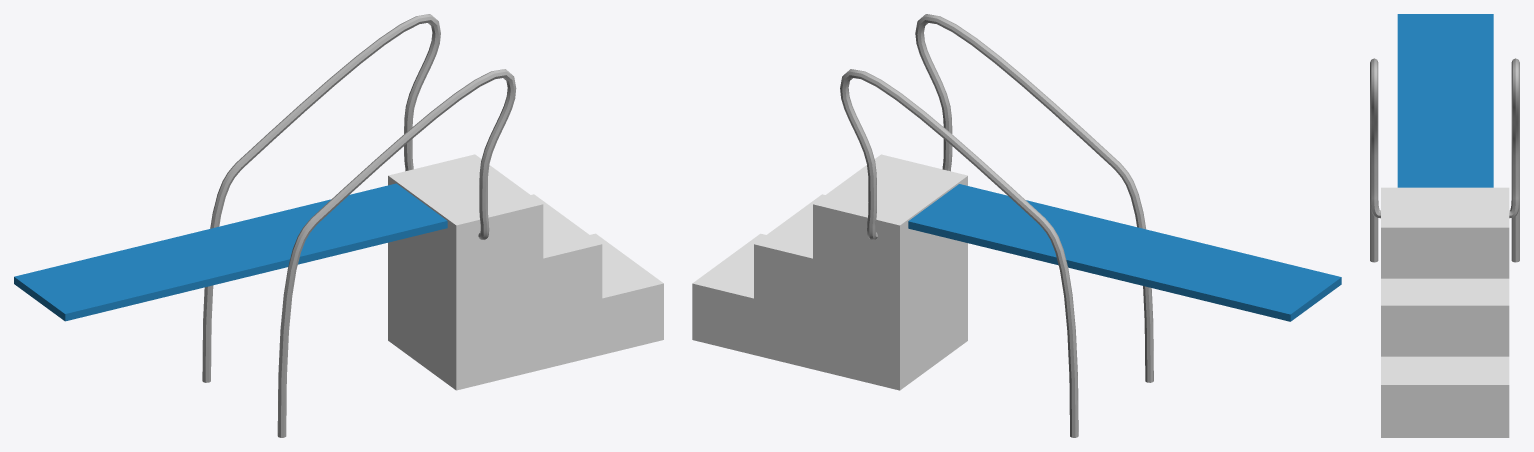
Rendered from Trampolin.FBX.
3 views of the same model, side by side, from view 1: azimuth 30°, elevation 25°; view 2: azimuth 150°, elevation 25°; view 3: azimuth 270°, elevation 25° (orthographic). The views are drawn at different scales.
Visible parts, largest first — view 1: Escaleras, Pieza Trampolín, Barras; view 2: Escaleras, Pieza Trampolín, Barras; view 3: Escaleras, Pieza Trampolín, Barras.
Boxes of the visible parts, x1,y1,x2,y2 form: Escaleras: (388,154,663,390); Pieza Trampolín: (14,183,447,321); Barras: (202,14,516,437); Escaleras: (692,154,967,390); Pieza Trampolín: (908,184,1341,321); Barras: (840,14,1153,437); Escaleras: (1381,187,1509,437); Pieza Trampolín: (1397,14,1493,187); Barras: (1370,58,1519,262).
Size of the model in its own units: 201 by 102 by 47.14.
3 materials, 3 textured.
